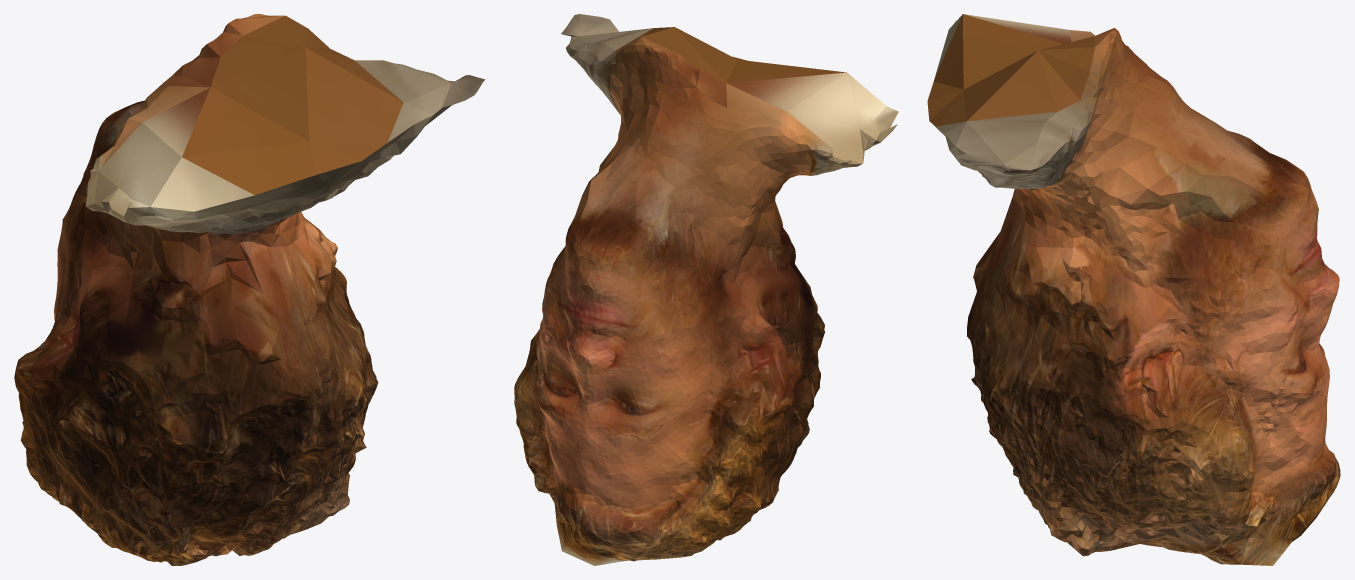
File: johan.FBX
3 renders of one model, left to right at view 1: azimuth 30°, elevation 25°; view 2: azimuth 150°, elevation 25°; view 3: azimuth 270°, elevation 25°, orthographic. The views are drawn at different scales.
Parts seen in each view (by area): view 1: mesh; view 2: mesh; view 3: mesh.
Part boxes in pixels (left/top/right/bottom): mesh: left=14, top=14, right=485, bottom=565; mesh: left=514, top=14, right=898, bottom=565; mesh: left=927, top=14, right=1340, bottom=565.
Bounding box in the file's own units: 0.441 × 0.6083 × 0.4322.
Materials: 1 (1 with a texture image).
